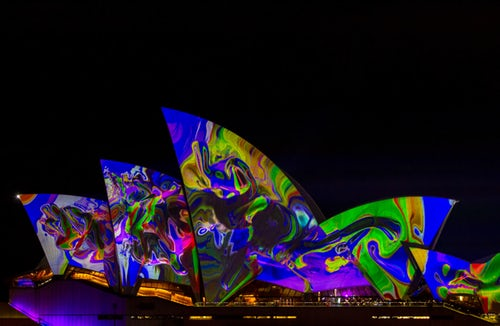opera house: (2, 81, 499, 314)
